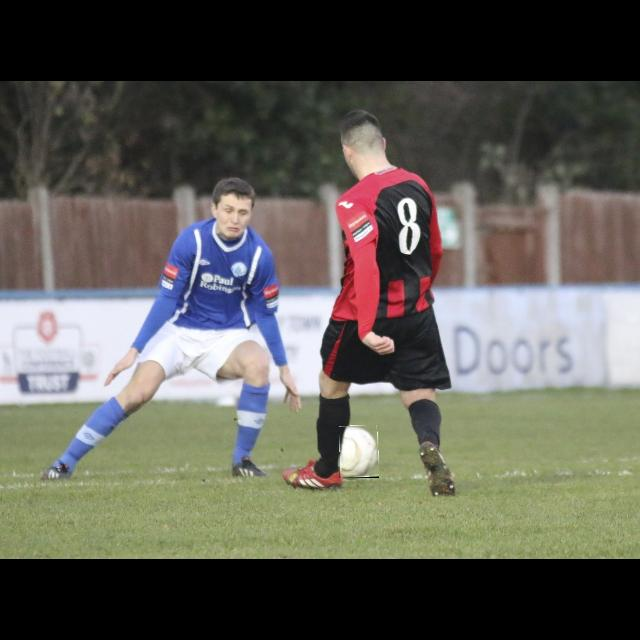Football: (339, 426, 379, 478)
